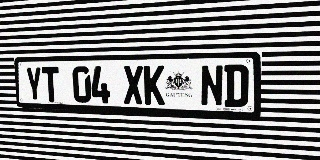0: (72, 66, 91, 103)
4: (90, 66, 110, 103)
D: (224, 64, 249, 107)
K: (144, 65, 165, 105)
N: (200, 65, 223, 107)
T: (42, 66, 60, 102)
X: (123, 66, 143, 104)
Y: (25, 67, 43, 102)
